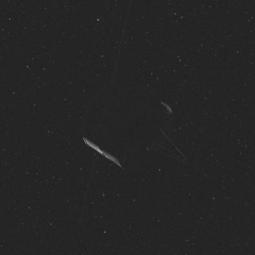double_start: (77, 90, 205, 180)
